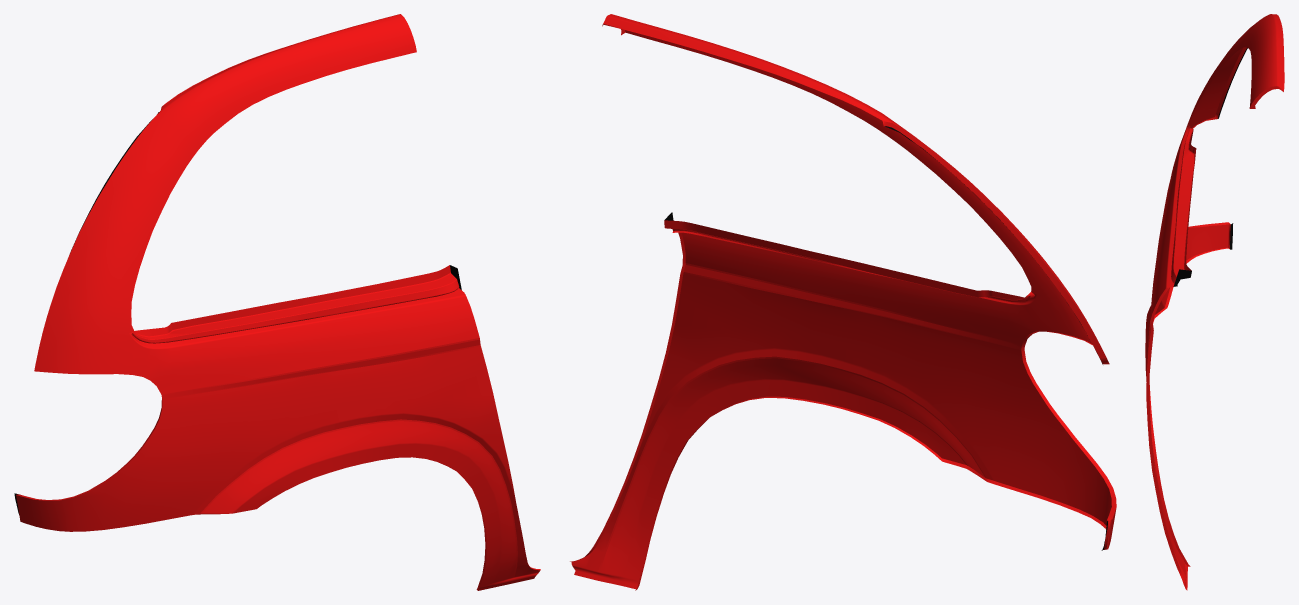
3 renders of one model, left to right at view 1: azimuth 30°, elevation 25°; view 2: azimuth 150°, elevation 25°; view 3: azimuth 270°, elevation 25°, orthographic. The views are drawn at different scales.
Visible parts, largest first — view 1: N664_9A_401B_R_1_DaS_N664_9A_401B_R, N664_9A_401B_R_1_DaS_N664_9A_401B_R_E; view 2: N664_9A_401B_R_1_DaS_N664_9A_401B_R, N664_9A_401B_R_1_DaS_N664_9A_401B_R_E; view 3: N664_9A_401B_R_1_DaS_N664_9A_401B_R, N664_9A_401B_R_1_DaS_N664_9A_401B_R_E, N664_9A_401B_R_N664_9A_401B_R_2_D.
Part boxes in pixels (x1=…): N664_9A_401B_R_1_DaS_N664_9A_401B_R: x1=16, y1=14, x2=540, y2=590; N664_9A_401B_R_1_DaS_N664_9A_401B_R_E: x1=16, y1=25, x2=540, y2=590; N664_9A_401B_R_1_DaS_N664_9A_401B_R: x1=571, y1=14, x2=1116, y2=589; N664_9A_401B_R_1_DaS_N664_9A_401B_R_E: x1=570, y1=24, x2=1116, y2=590; N664_9A_401B_R_1_DaS_N664_9A_401B_R: x1=1145, y1=14, x2=1283, y2=590; N664_9A_401B_R_1_DaS_N664_9A_401B_R_E: x1=1146, y1=14, x2=1284, y2=585; N664_9A_401B_R_N664_9A_401B_R_2_D: x1=1173, y1=48, x2=1247, y2=286.
Size of the model in its own units: 133 by 139 by 37.28.
